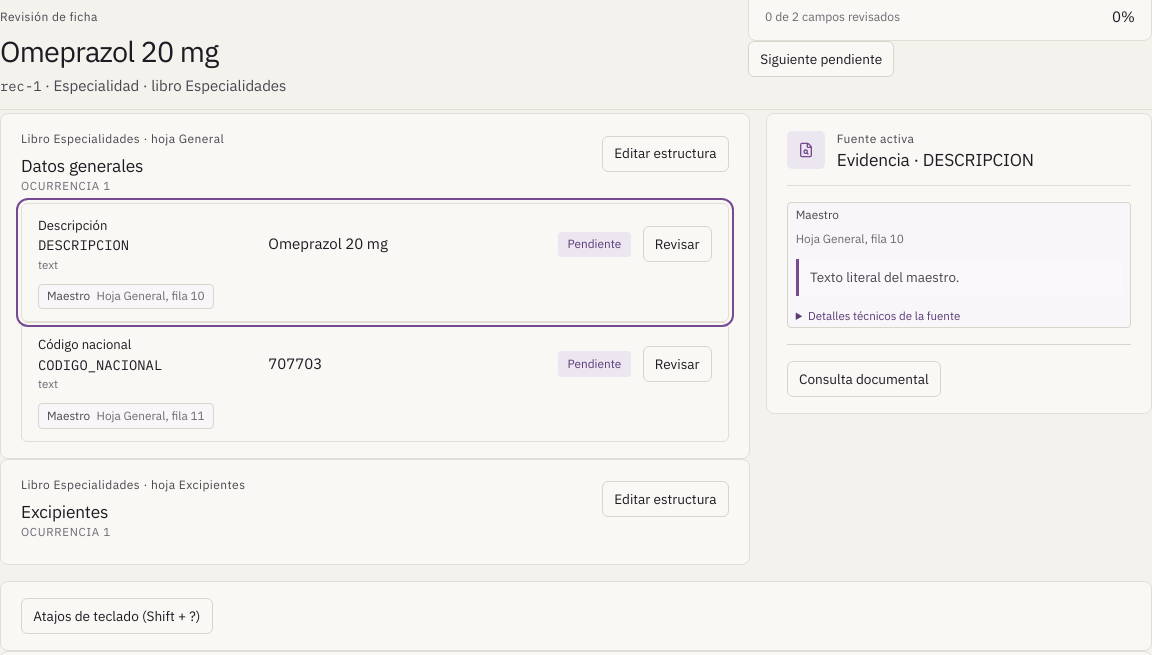
it: documenta los atajos en la propia pantalla
This screenshot has width=1152, height=655.
Expected: the heading "Omeprazol 20 mg" is shown, [0,32,219,70]
Click the button "Atajos de teclado (Shift + ?)" at (117, 616), box [21,598,212,634]
(page scrolled)
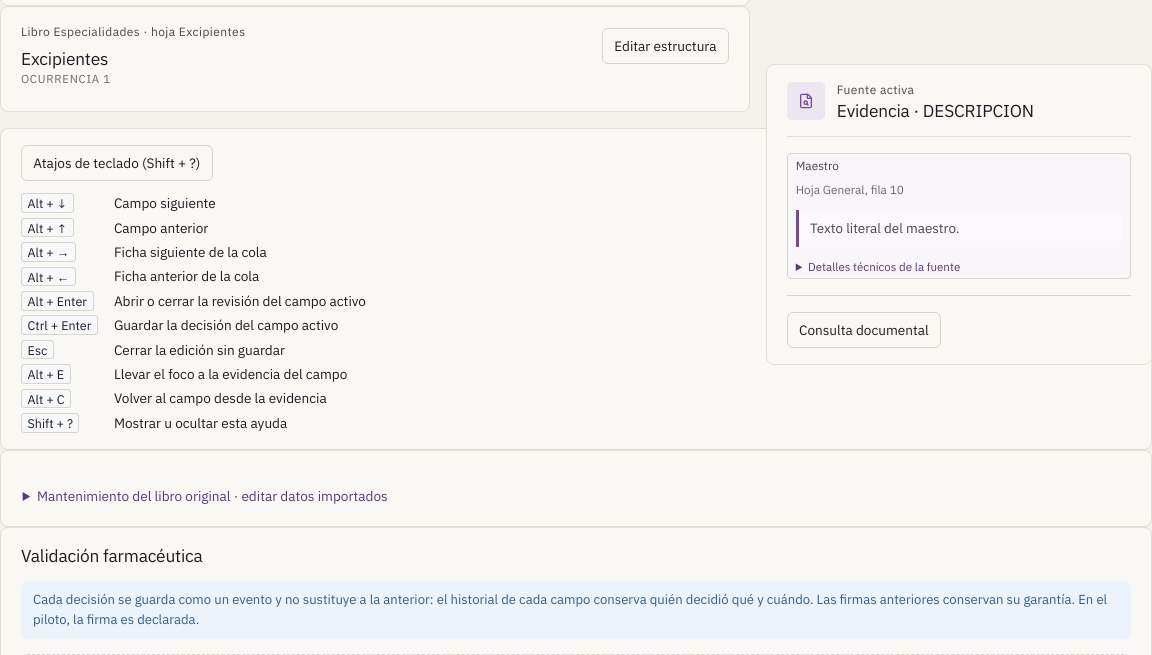
Expected: the text "Campo siguiente" is shown, [114,194,216,212]
Expected: the text "Guardar la decisión del campo activo" is shown, [114,316,338,334]
